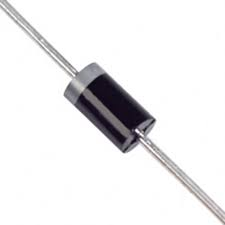diode: (48, 50, 166, 163)
